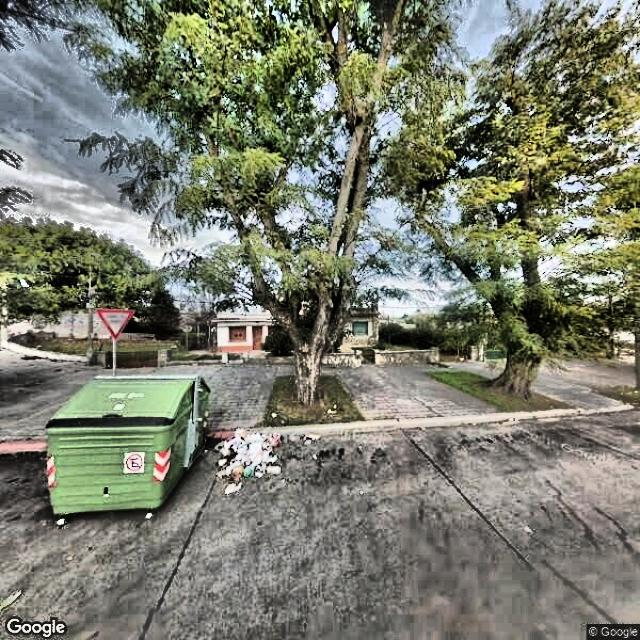garbage: (212, 429, 282, 494)
